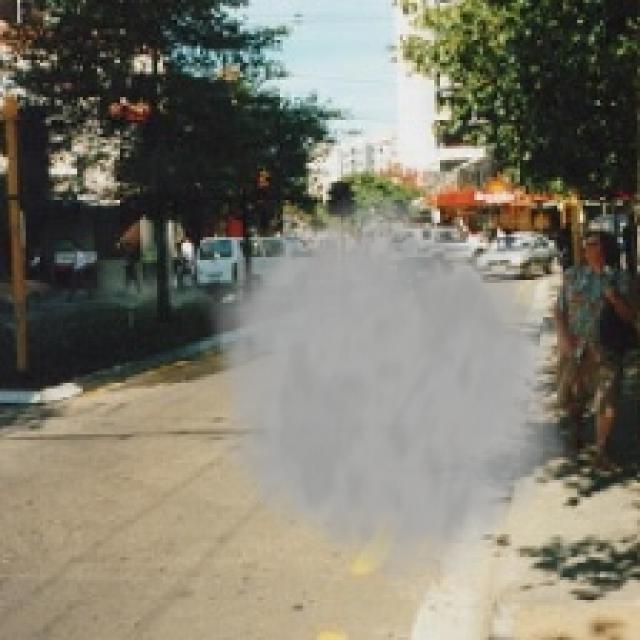smoke: (194, 177, 572, 603)
